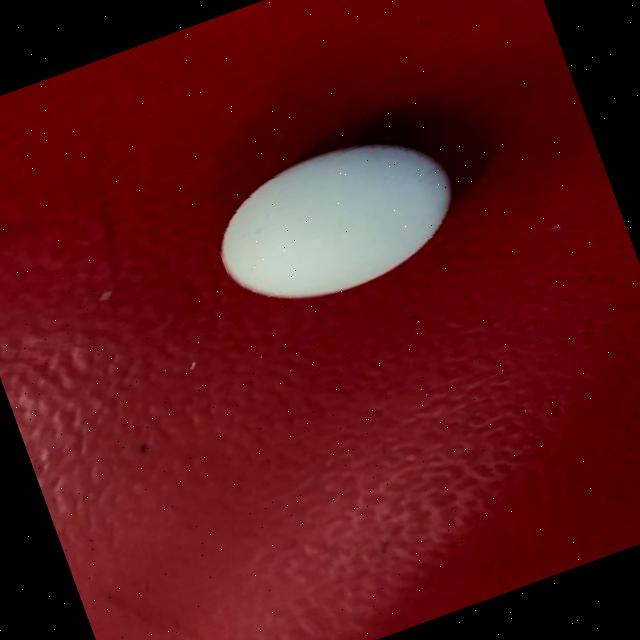ping-pong-ball: (172, 95, 508, 348)
